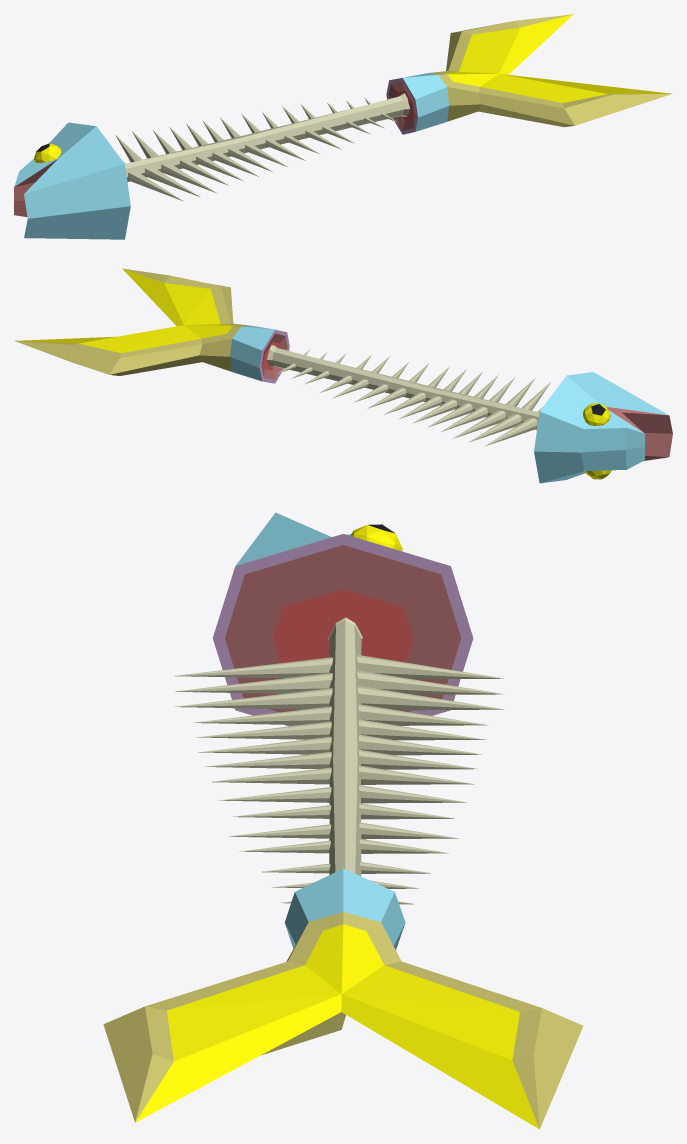
File: Fish Bones with Head.fbx
3 renders of one model, top to bottom at view 1: azimuth 30°, elevation 25°; view 2: azimuth 150°, elevation 25°; view 3: azimuth 270°, elevation 25°, orthographic. The views are drawn at different scales.
Parts seen in each view (by area): view 1: Fish Bones with Head; view 2: Fish Bones with Head; view 3: Fish Bones with Head.
Boxes of the visible parts, bbox=[...] form: Fish Bones with Head: bbox=[14, 14, 672, 239]; Fish Bones with Head: bbox=[15, 268, 672, 483]; Fish Bones with Head: bbox=[103, 512, 583, 1129].
Bounding box in the file's own units: 49.53 × 8.39 × 17.47.
